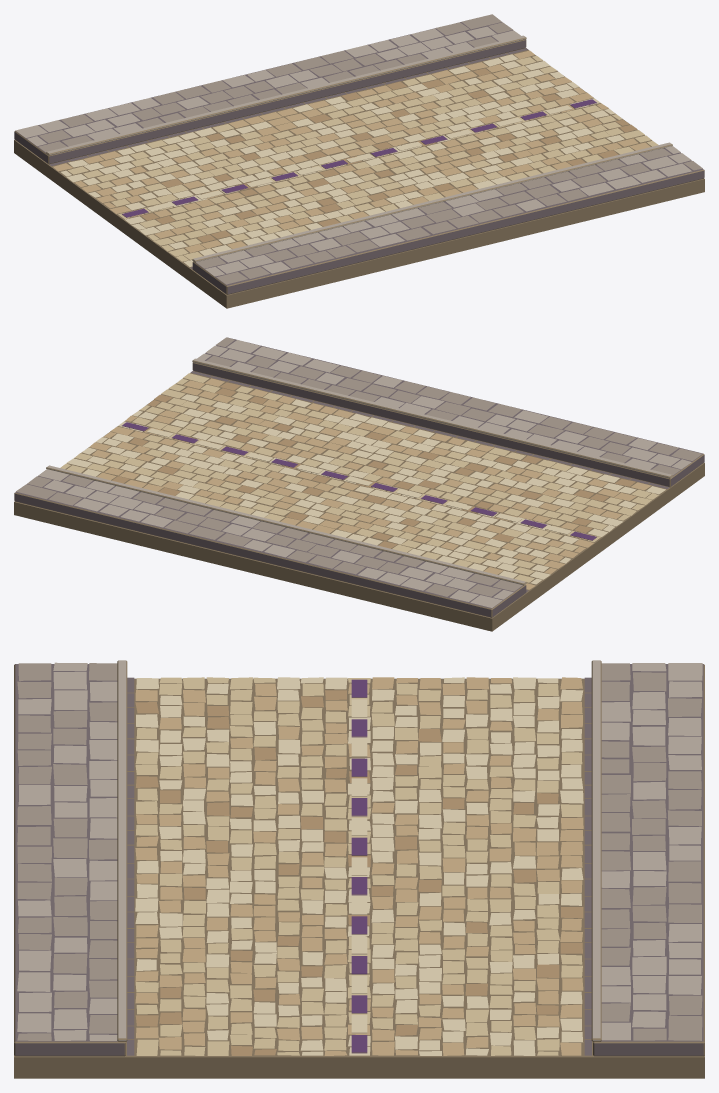
Rendered from cannon_floor.glb.
3 renders of one model, top to bottom at view 1: azimuth 30°, elevation 25°; view 2: azimuth 150°, elevation 25°; view 3: azimuth 270°, elevation 25°, orthographic. The views are drawn at different scales.
Parts seen in each view (by area): view 1: cannon_floor; view 2: cannon_floor; view 3: cannon_floor.
Boxes of the visible parts, x1,y1,x2,y2 form: cannon_floor: [14, 14, 704, 308]; cannon_floor: [14, 337, 704, 631]; cannon_floor: [14, 660, 704, 1078].
Bounding box in the file's own units: 19.2 × 0.94 × 14.8.
